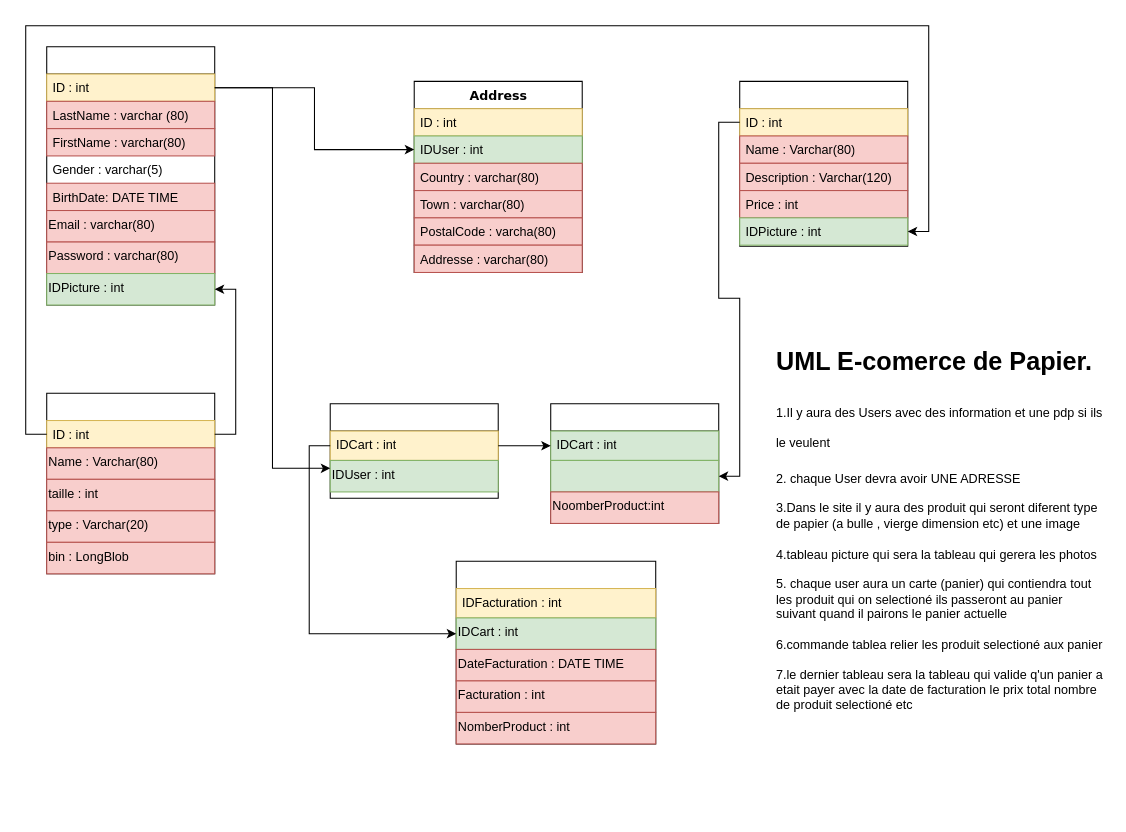
The diagram is 1126 pixels wide and 832 high, and some of its shapes have lost their labels. The box of each missing label's shape, as (x1, y1, x2, y2) in pixels:
cart table: (329, 403, 498, 498)
command table: (550, 403, 719, 523)
IDProduct: int: (550, 459, 719, 492)
invoices table: (455, 560, 656, 744)
Picture: (46, 392, 215, 574)
Product: (739, 80, 908, 246)
User: (46, 46, 215, 305)
